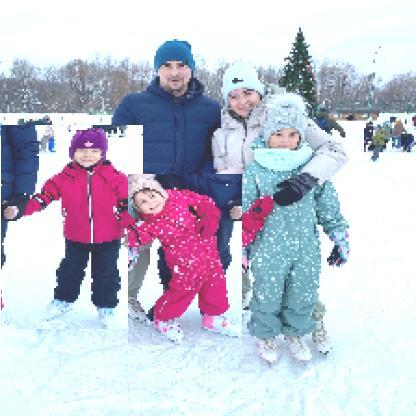child: (2, 126, 145, 331), (129, 175, 244, 347)
